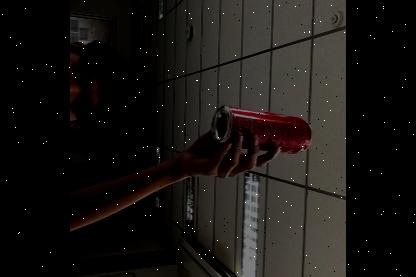Can: (210, 105, 312, 154)
